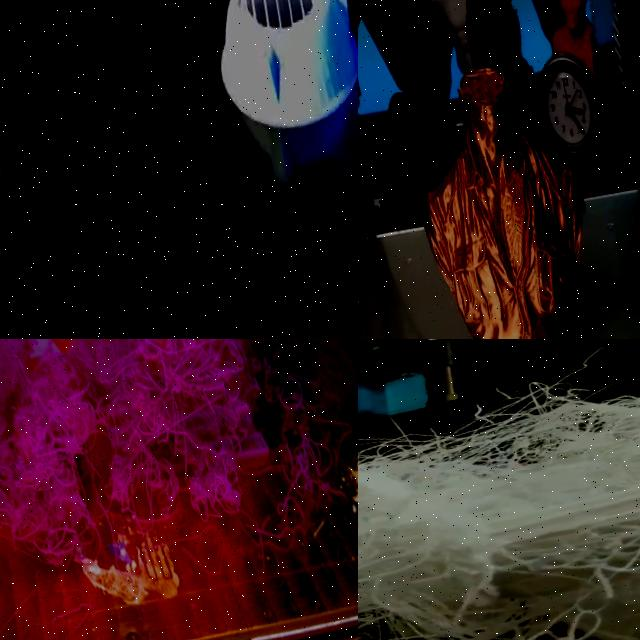spaghetti: (0, 339, 354, 612), (358, 339, 640, 640)
